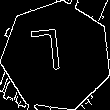L_S: (38, 30, 75, 83)
